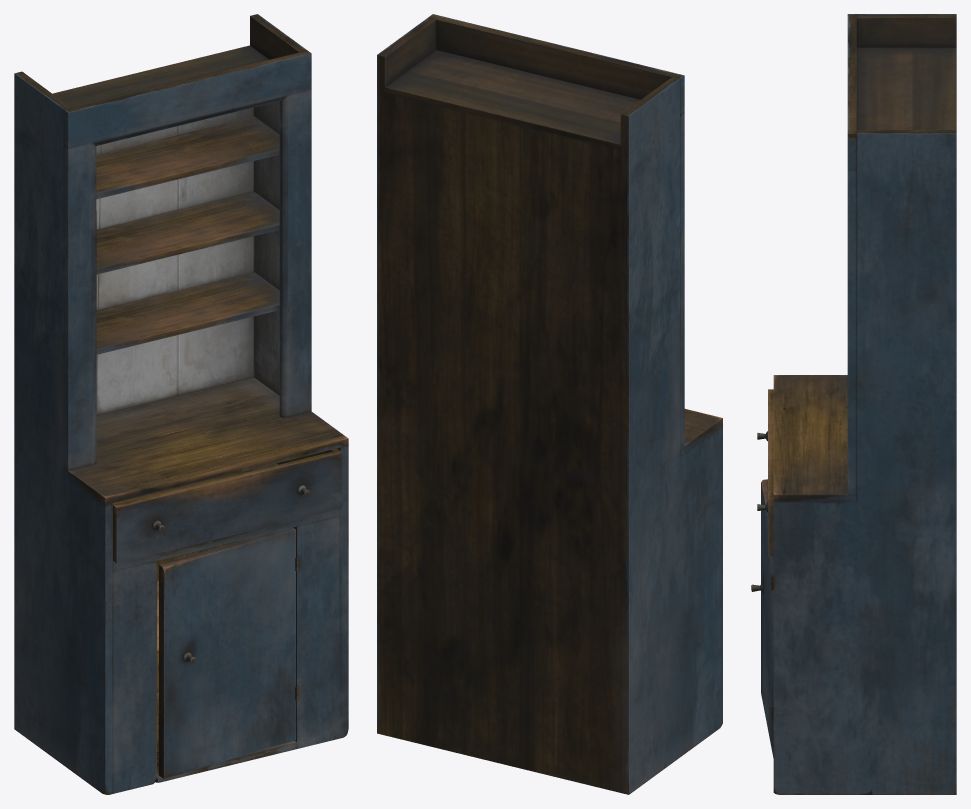
Rendered from painted_wooden_cabinet_02.glb.
3 renders of one model, left to right at view 1: azimuth 30°, elevation 25°; view 2: azimuth 150°, elevation 25°; view 3: azimuth 270°, elevation 25°, orthographic. The views are drawn at different scales.
Visible parts, largest first — view 1: painted_wooden_cabinet_02, painted_wooden_cabinet_02_door, painted_wooden_cabinet_02_drawer; view 2: painted_wooden_cabinet_02; view 3: painted_wooden_cabinet_02, painted_wooden_cabinet_02_door, painted_wooden_cabinet_02_drawer.
Boxes of the visible parts, left/top/right/bottom form: painted_wooden_cabinet_02: left=14, top=14, right=348, bottom=794; painted_wooden_cabinet_02_door: left=158, top=527, right=295, bottom=778; painted_wooden_cabinet_02_drawer: left=113, top=448, right=342, bottom=563; painted_wooden_cabinet_02: left=377, top=14, right=722, bottom=794; painted_wooden_cabinet_02: left=770, top=14, right=956, bottom=794; painted_wooden_cabinet_02_door: left=751, top=479, right=773, bottom=758; painted_wooden_cabinet_02_drawer: left=757, top=389, right=773, bottom=556.
Size of the model in its own units: 0.9969 by 2.57 by 0.7223.
1 material, 1 textured.
